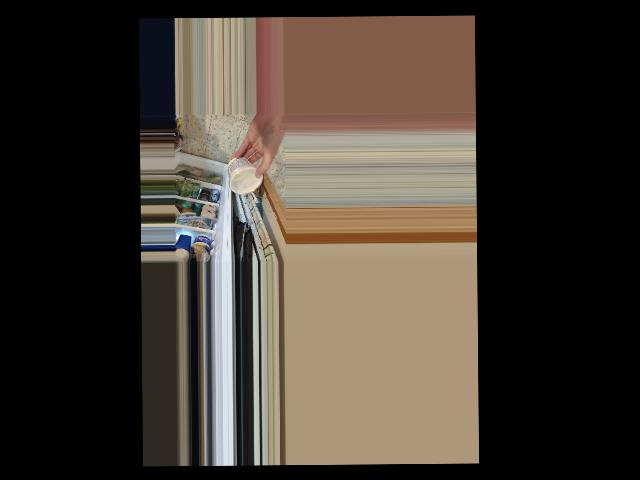cotage: (228, 153, 266, 193)
